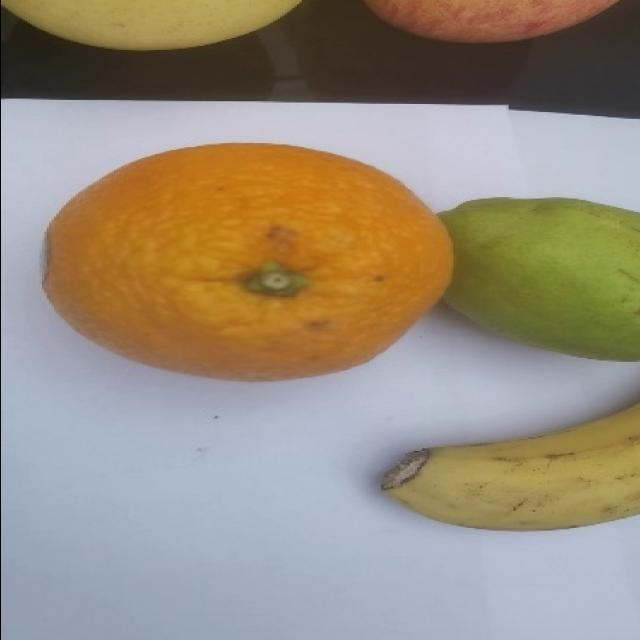Apple: (361, 0, 621, 44)
Banana: (380, 399, 639, 531)
Orange: (41, 140, 455, 382)
